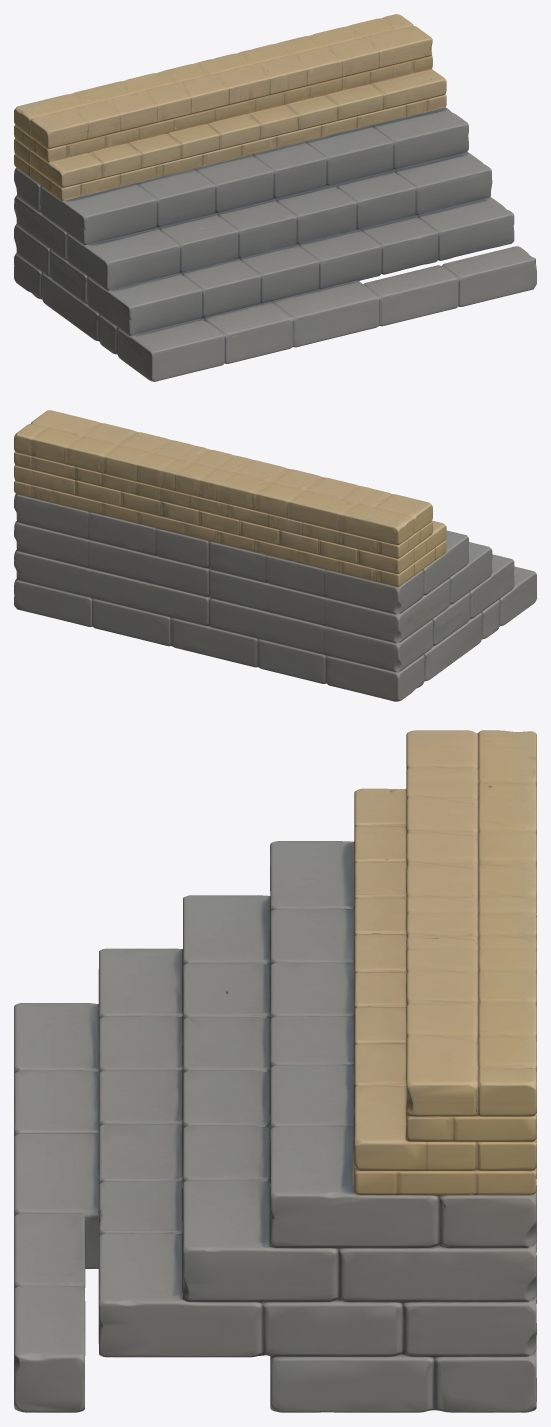
File: Slope_Connector_opt.glb
3 renders of one model, top to bottom at view 1: azimuth 30°, elevation 25°; view 2: azimuth 150°, elevation 25°; view 3: azimuth 270°, elevation 25°, orthographic. The views are drawn at different scales.
Parts seen in each view (by area): view 1: material; view 2: material; view 3: material.
Boxes of the visible parts, box(x1,y1,x2,y2) form: material: box(14, 14, 536, 381); material: box(14, 410, 536, 701); material: box(14, 730, 536, 1412).
Bounding box in the file's own units: 0.9618 × 0.4177 × 0.5992.
1 material, 1 textured.
